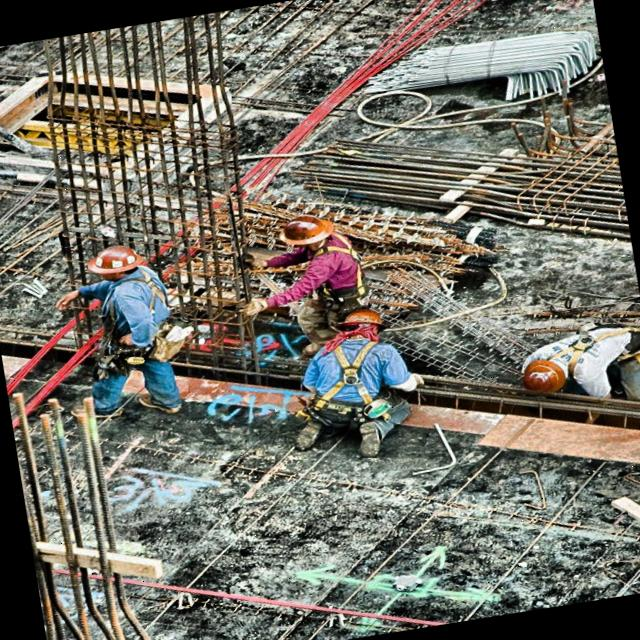helmet: (278, 210, 336, 254), (85, 242, 145, 284), (516, 354, 569, 400), (338, 305, 388, 345)
